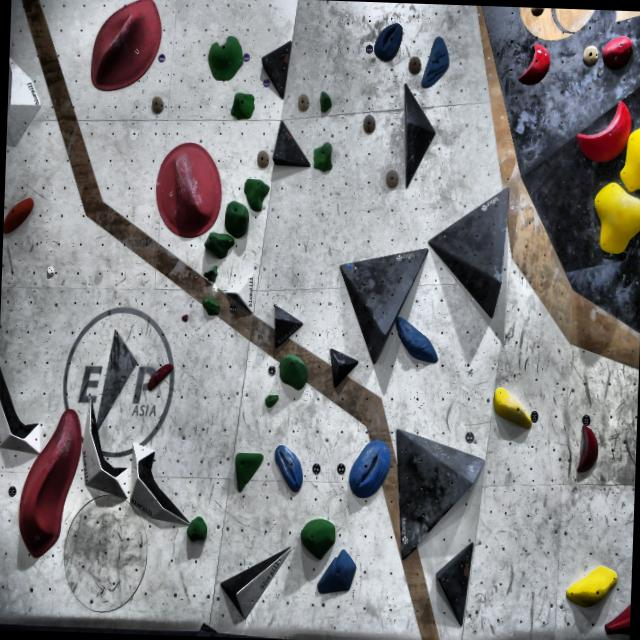Hold: (18, 404, 82, 566), (89, 0, 163, 102), (154, 133, 223, 240), (572, 100, 637, 167), (594, 178, 640, 255), (347, 438, 391, 500), (488, 378, 535, 432), (564, 566, 622, 609), (392, 316, 439, 362), (422, 29, 453, 94), (206, 28, 244, 81), (314, 550, 357, 593), (572, 420, 604, 474), (296, 518, 338, 559), (615, 125, 640, 192), (514, 42, 551, 86), (270, 445, 300, 495), (233, 445, 262, 495), (374, 17, 406, 62), (596, 34, 636, 68), (275, 354, 312, 390), (242, 172, 270, 215), (224, 196, 254, 234), (3, 196, 34, 232), (146, 360, 176, 393), (229, 91, 258, 125), (600, 600, 630, 632), (312, 139, 333, 174), (200, 234, 236, 254), (186, 516, 210, 540), (316, 89, 332, 119), (580, 44, 600, 66), (358, 112, 377, 134), (381, 170, 401, 189), (296, 94, 312, 112), (522, 7, 548, 17), (204, 298, 218, 316), (203, 265, 218, 280), (258, 148, 269, 168), (262, 394, 278, 407)
